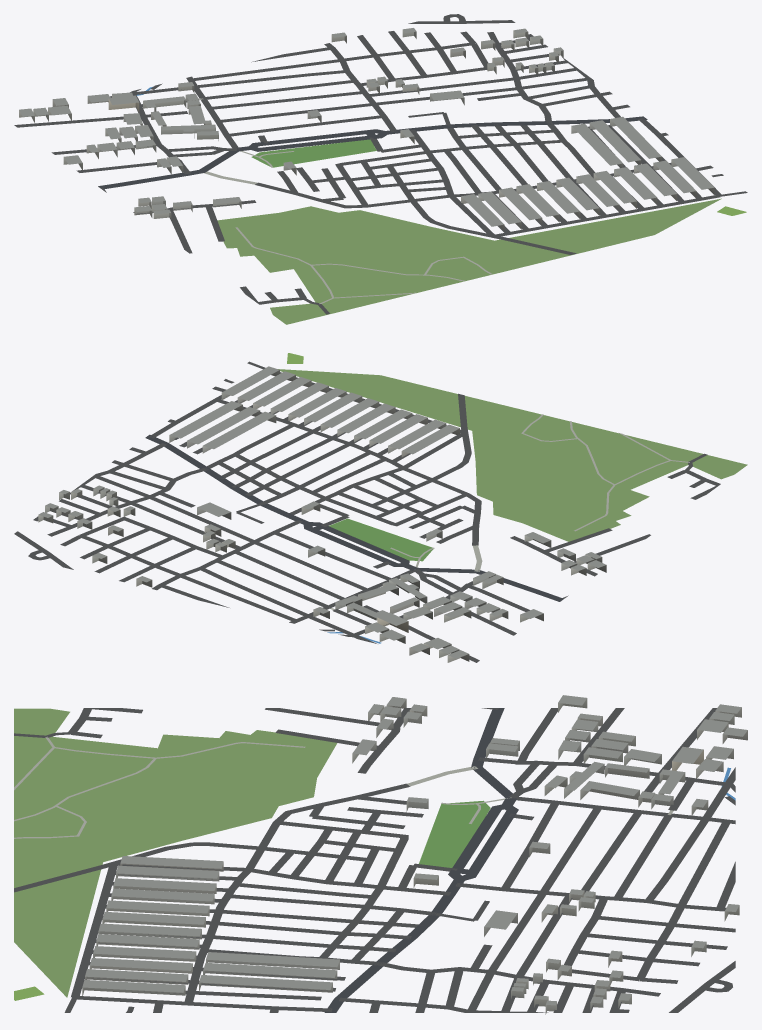
The picture shows the model from 3 angles, top to bottom: view 1: azimuth 30°, elevation 25°; view 2: azimuth 150°, elevation 25°; view 3: azimuth 270°, elevation 25°; orthographic projection. The views are drawn at different scales.
Parts seen in each view (by area): view 1: ground, building; view 2: ground, building; view 3: ground, building.
Boxes of the visible parts, x1=… form: ground: x1=14, y1=14, x2=747, y2=324; building: x1=19, y1=28, x2=714, y2=230; ground: x1=14, y1=353, x2=747, y2=662; building: x1=38, y1=366, x2=606, y2=662; ground: x1=14, y1=708, x2=735, y2=1012; building: x1=82, y1=695, x2=747, y2=1014.
Bounding box in the file's own units: 509 × 12 × 509.
